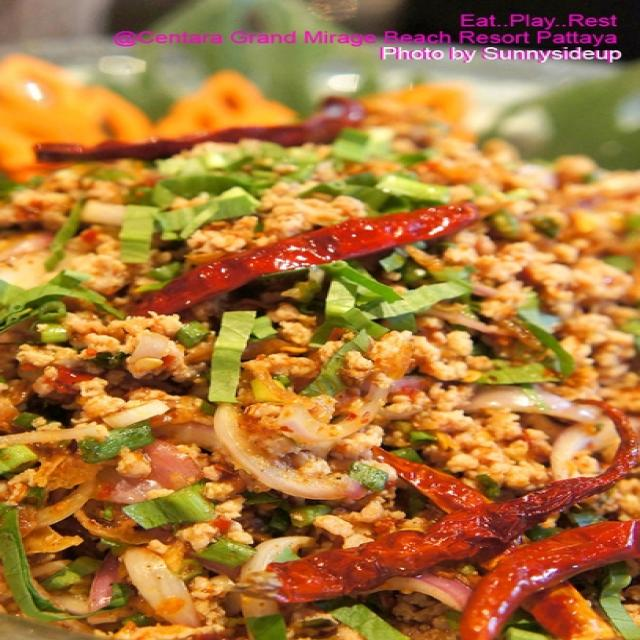鸡肉料理 含炸鸡: (21, 74, 614, 629)
